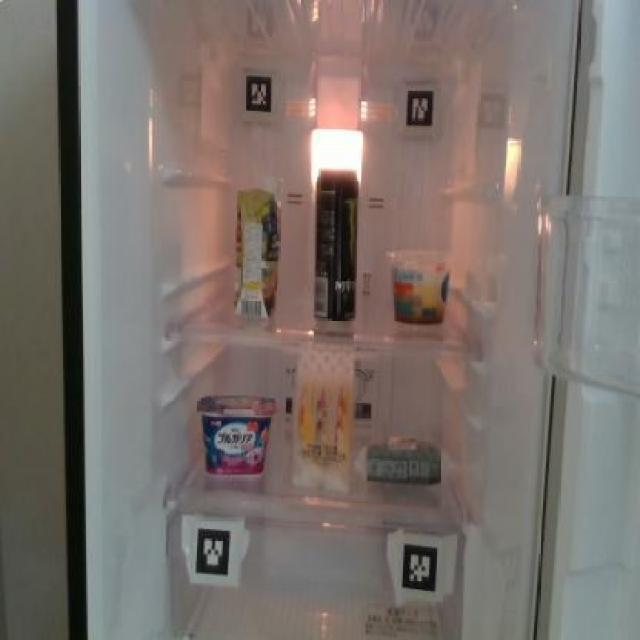can: (313, 162, 359, 324)
pudding: (384, 245, 452, 326)
rice_ball: (362, 428, 444, 488)
sandwich: (292, 343, 356, 491)
smoothie: (232, 166, 283, 319)
yogurt: (192, 391, 277, 478)
